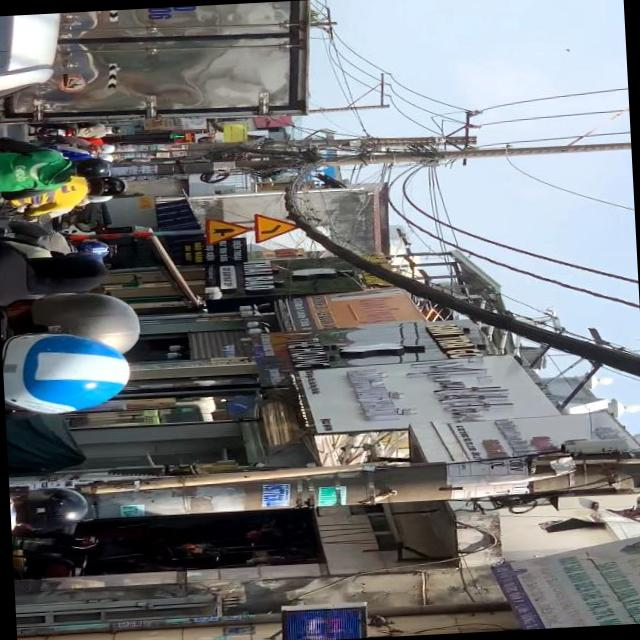W-201a: (253, 214, 304, 244)
W-207b: (205, 216, 252, 245)
